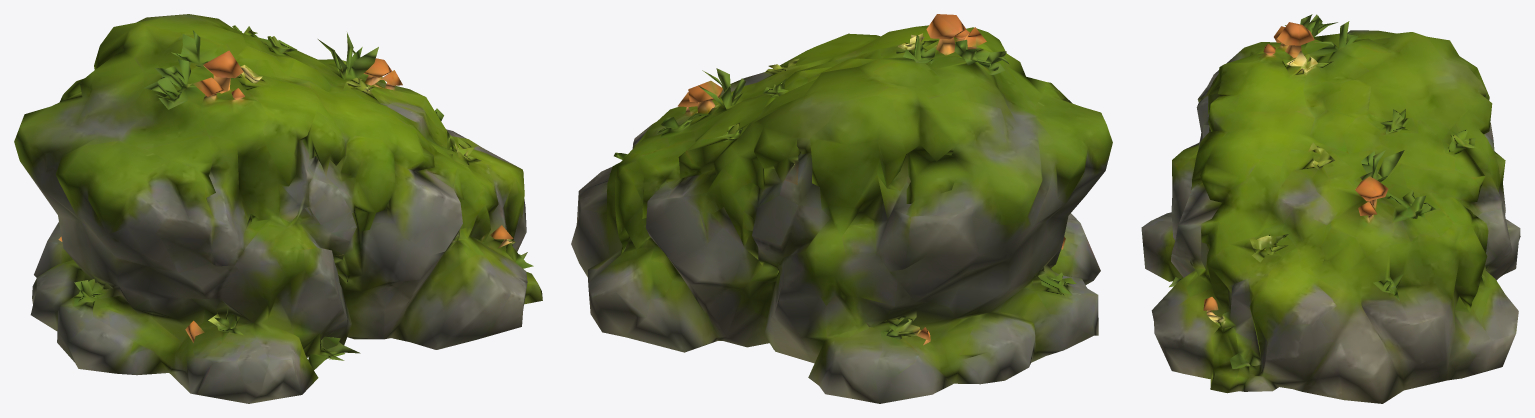
File: rock_b.glb
3 views of the same model, side by side, from view 1: azimuth 30°, elevation 25°; view 2: azimuth 150°, elevation 25°; view 3: azimuth 270°, elevation 25° (orthographic). The views are drawn at different scales.
Visible parts, largest first — view 1: tripo_node_fd96a492-2e5c-4088-a618-410ab1fdd18a; view 2: tripo_node_fd96a492-2e5c-4088-a618-410ab1fdd18a; view 3: tripo_node_fd96a492-2e5c-4088-a618-410ab1fdd18a.
Boxes of the visible parts, bbox=[...] form: tripo_node_fd96a492-2e5c-4088-a618-410ab1fdd18a: bbox=[14, 14, 542, 403]; tripo_node_fd96a492-2e5c-4088-a618-410ab1fdd18a: bbox=[571, 14, 1112, 403]; tripo_node_fd96a492-2e5c-4088-a618-410ab1fdd18a: bbox=[1141, 14, 1520, 403].
Size of the model in its own units: 0.9971 by 0.5793 by 0.7953.
1 material, 1 textured.
